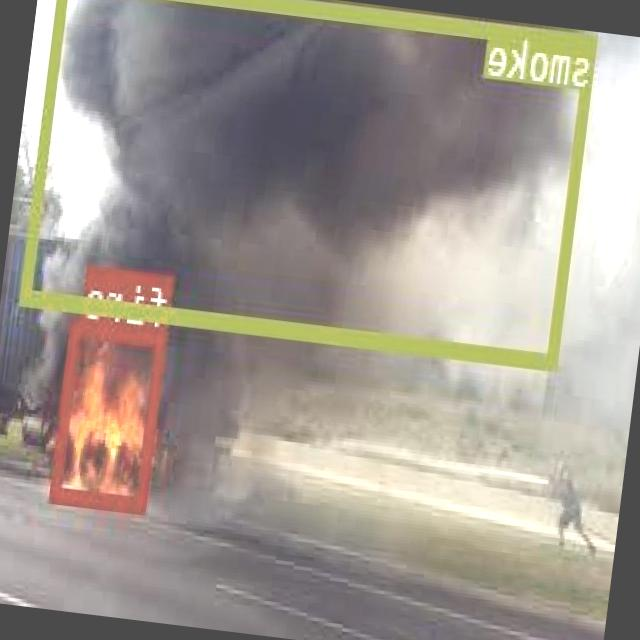fire: (52, 316, 168, 510)
smoke: (21, 0, 598, 367)
